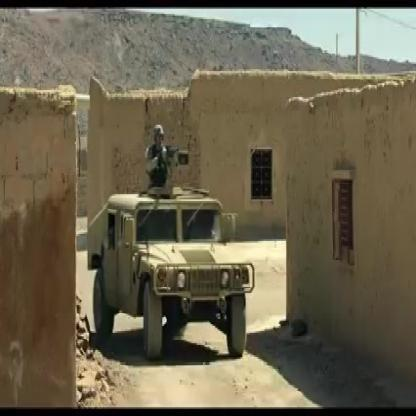Gun: (157, 144, 178, 166)
